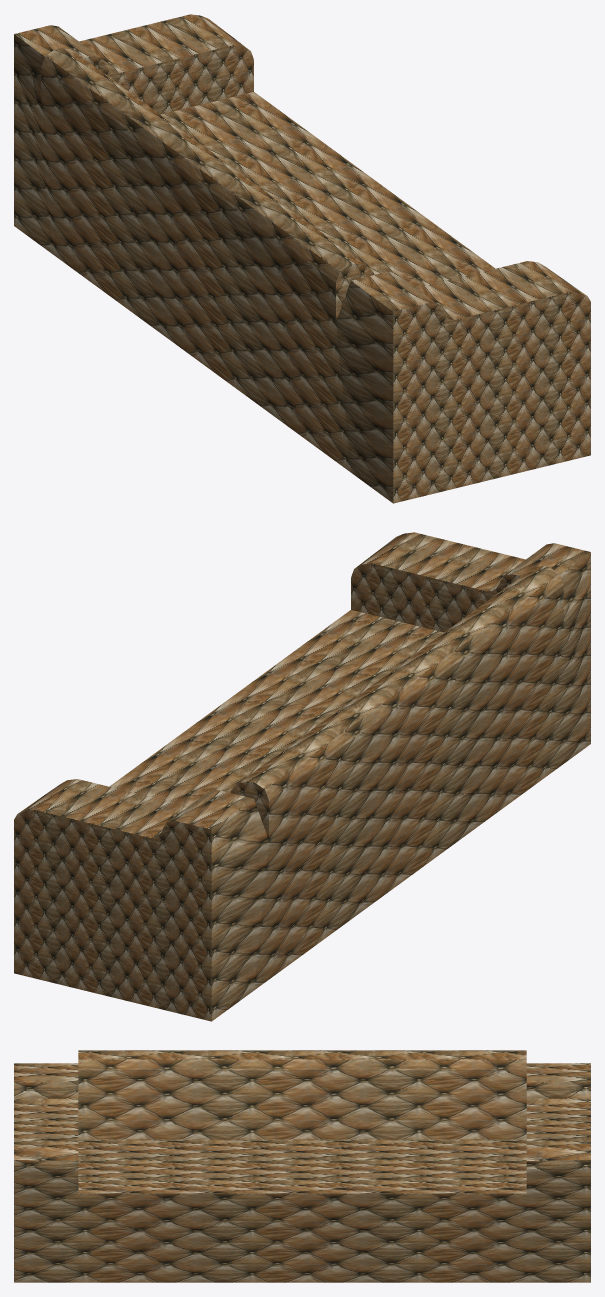
File: BankLaagU.fbx
The picture shows the model from 3 angles, top to bottom: view 1: azimuth 30°, elevation 25°; view 2: azimuth 150°, elevation 25°; view 3: azimuth 270°, elevation 25°; orthographic projection. The views are drawn at different scales.
Parts seen in each view (by area): view 1: Cube.001; view 2: Cube.001; view 3: Cube.001.
Part boxes in pixels (bbox=[...]): Cube.001: bbox=[14, 14, 590, 503]; Cube.001: bbox=[14, 532, 590, 1021]; Cube.001: bbox=[14, 1050, 590, 1282].
Size of the model in its own units: 290 by 271 by 896.
